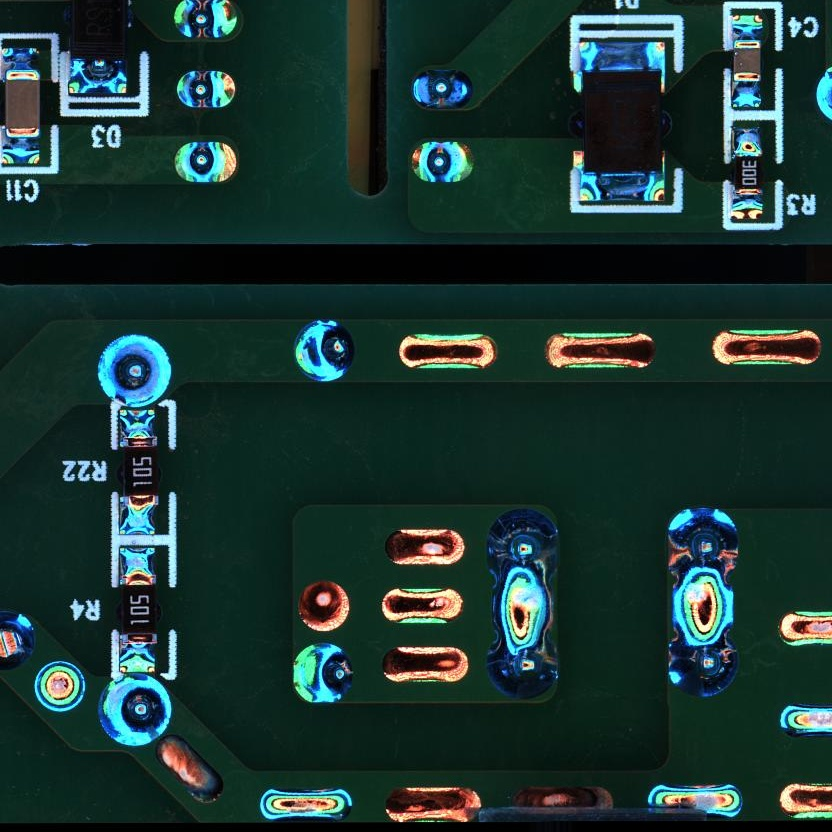spot: (95, 331, 173, 410), (486, 507, 561, 584), (95, 674, 173, 748), (665, 507, 741, 581), (486, 632, 561, 702), (665, 630, 739, 698), (292, 317, 356, 384), (291, 642, 354, 705), (33, 660, 87, 714), (410, 139, 474, 184), (172, 141, 238, 183), (412, 67, 474, 108), (175, 68, 235, 110), (171, 1, 239, 38), (1, 611, 37, 673)
